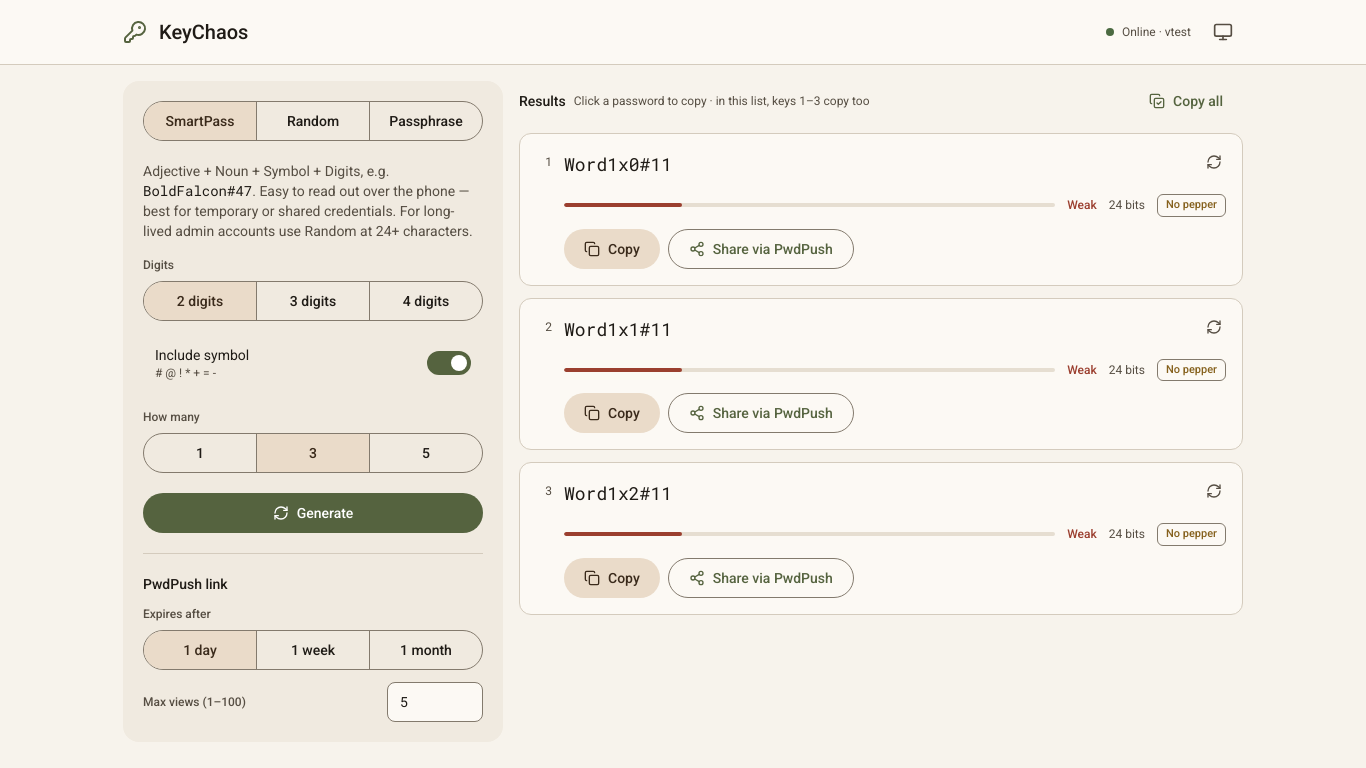
App — generation › SmartPass option changes do not hit the API until Generate is pressed
Expected: the number of list items is 3, [519,133,1243,286]; [519,298,1243,450]; [519,462,1243,614]
Step 1. Click the radio button labelled "4 digits" → (426,301), box [369,282,482,320]
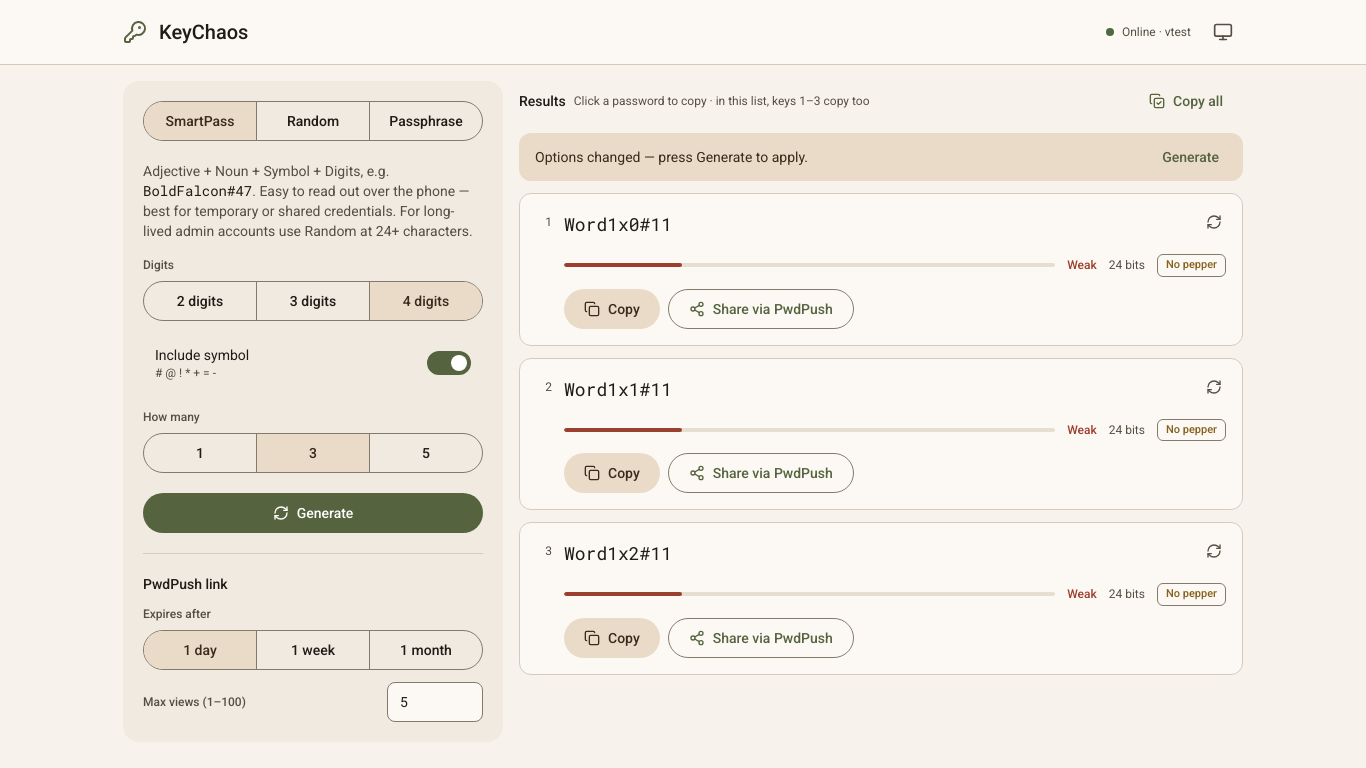
Step 2. Click the radio button labelled "5" → (426,453), box [369,434,482,472]
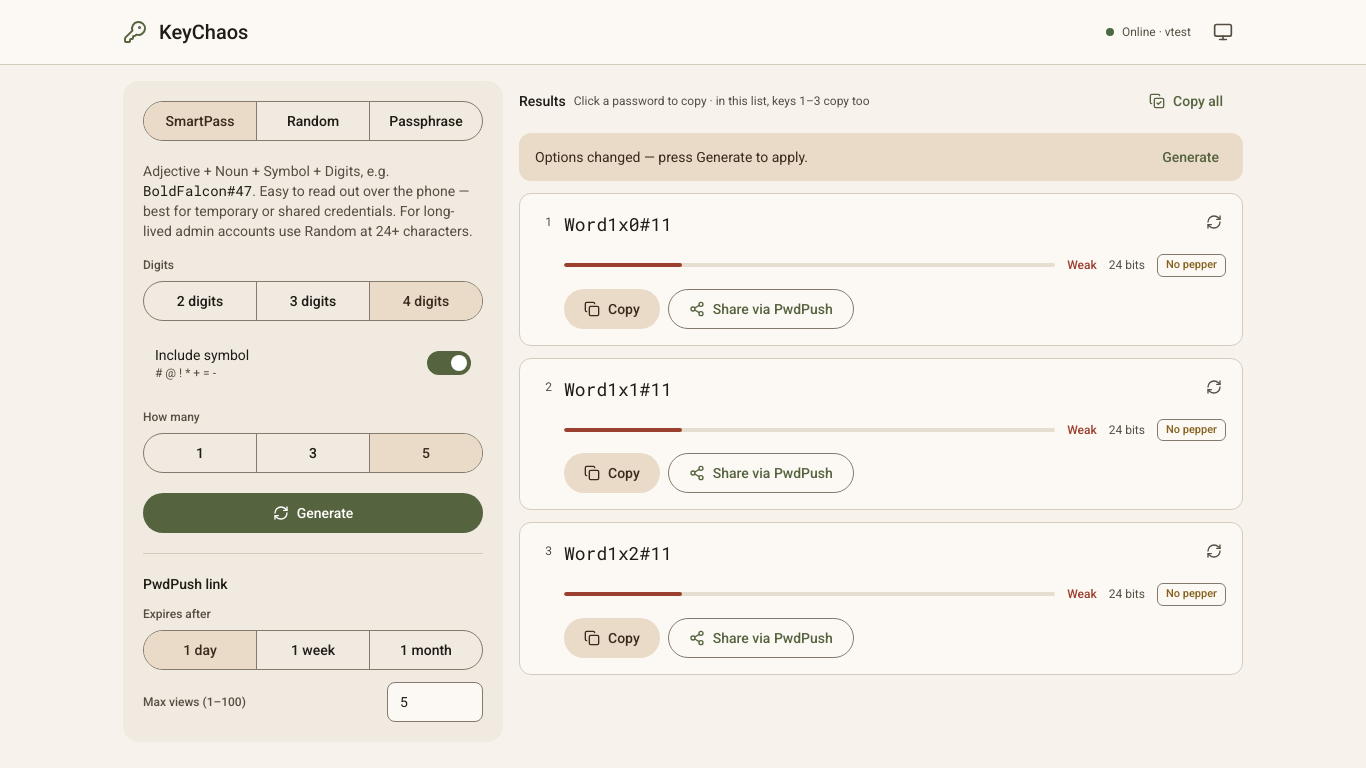
Expected: the text "Options changed — press Generate to apply." is shown, [535,149,808,165]
Expected: the message "Options changed — press Generate to apply. Generate" is shown, [519,133,1243,181]
Step 3. Click the button "Generate" below "How many" → (313,513), box [143,493,483,533]
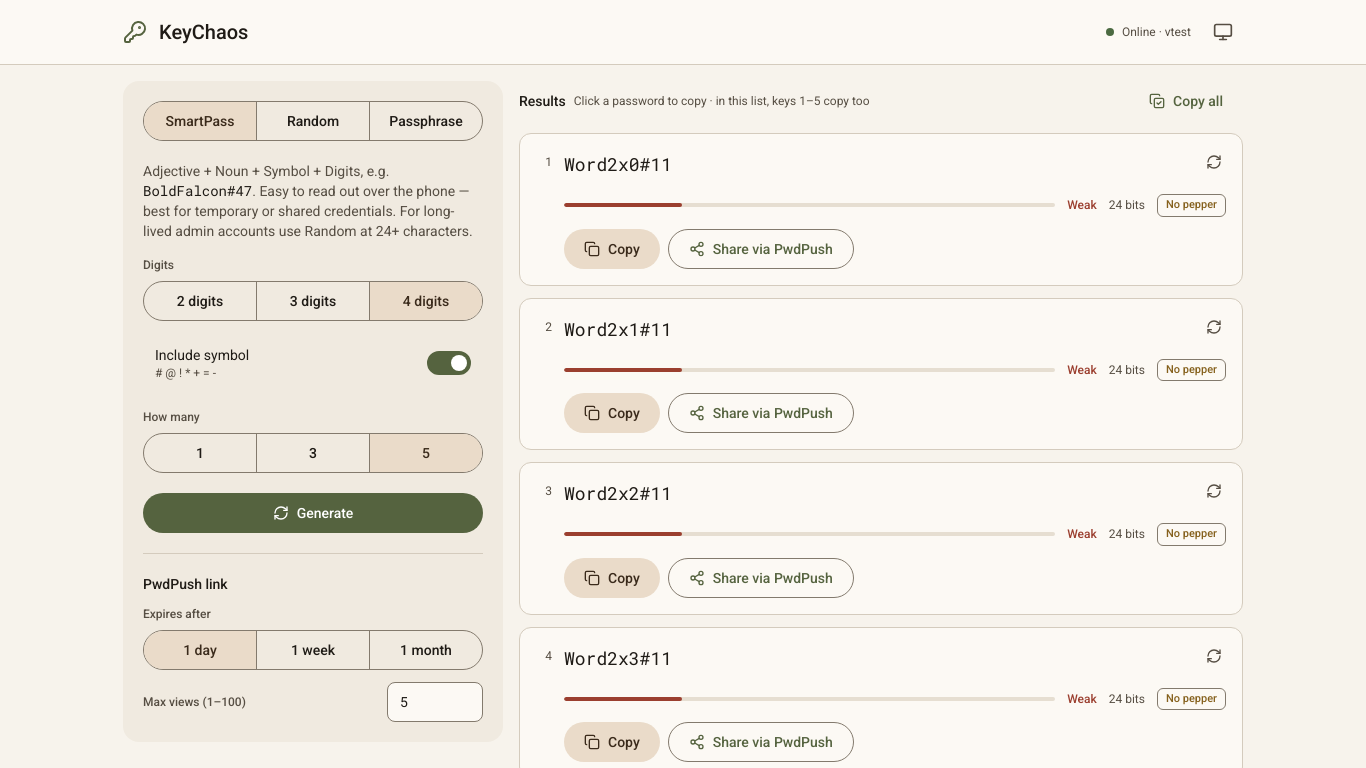
Expected: the number of list items is 5
Expected: the text "Options changed" is gone
